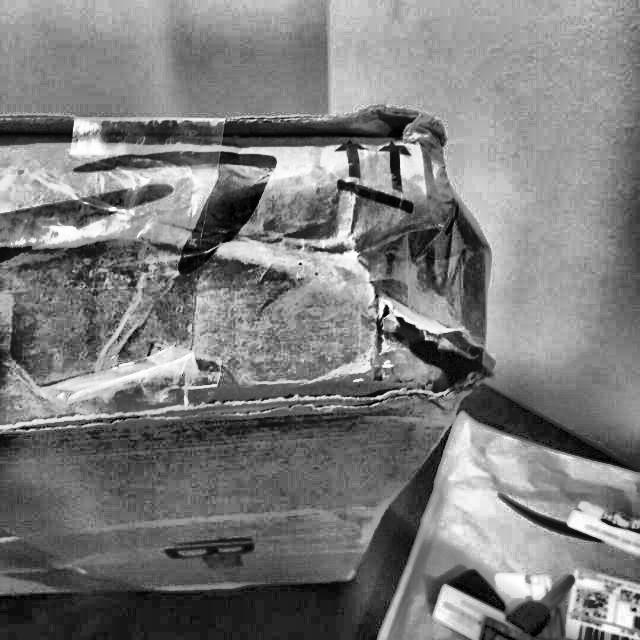box: (0, 97, 504, 613)
hole: (384, 311, 492, 406)
